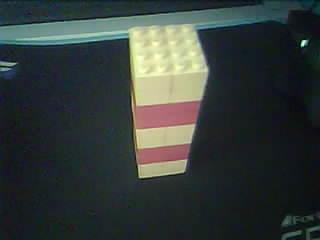lego: (129, 24, 209, 179)
